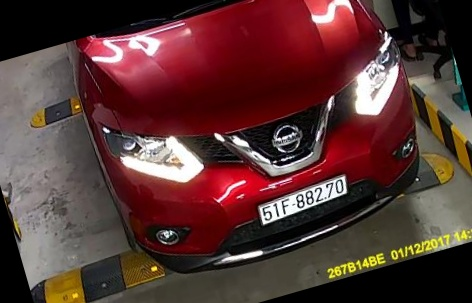plate: (257, 175, 350, 224)
